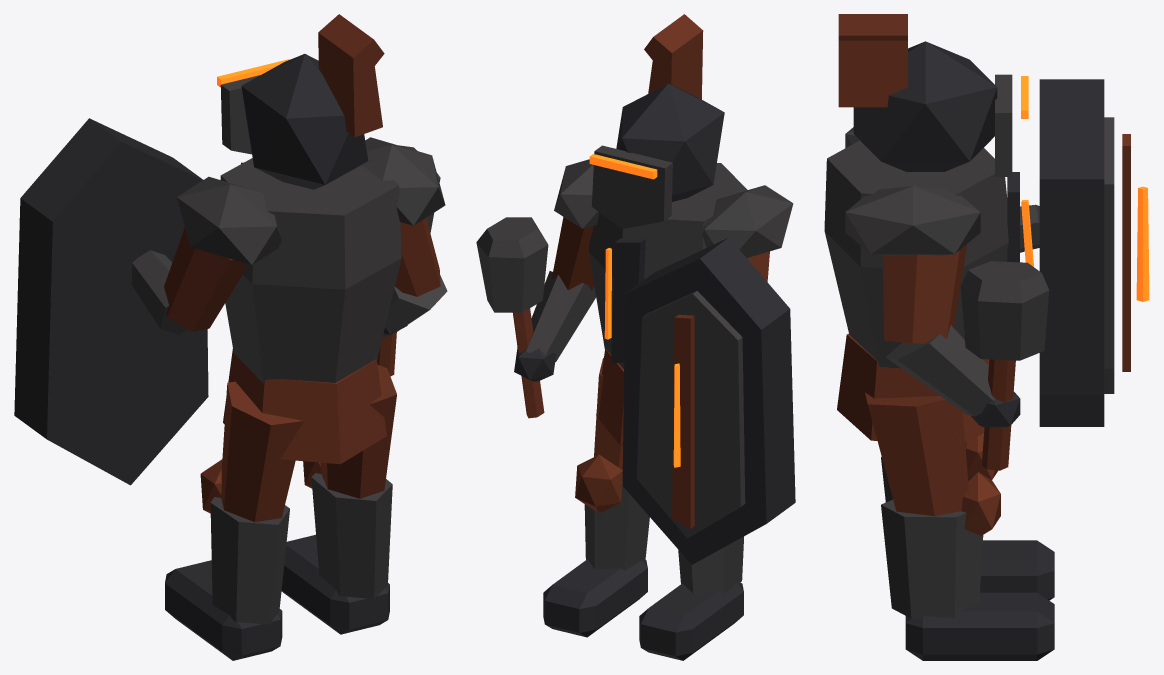
File: obsidian_guard.glb
The picture shows the model from 3 angles, left to right: view 1: azimuth 30°, elevation 25°; view 2: azimuth 150°, elevation 25°; view 3: azimuth 270°, elevation 25°; orthographic projection. The views are drawn at different scales.
Visible parts, largest first — view 1: obsidian_guard; view 2: obsidian_guard; view 3: obsidian_guard.
Part boxes in pixels (bbox=[...]): obsidian_guard: bbox=[14, 14, 447, 660]; obsidian_guard: bbox=[476, 14, 795, 660]; obsidian_guard: bbox=[824, 14, 1149, 660].
Bounding box in the file's own units: 1.1 × 1.8 × 0.85.
